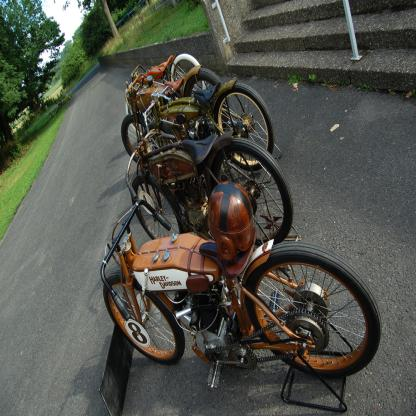Helmet: (204, 191, 258, 268)
